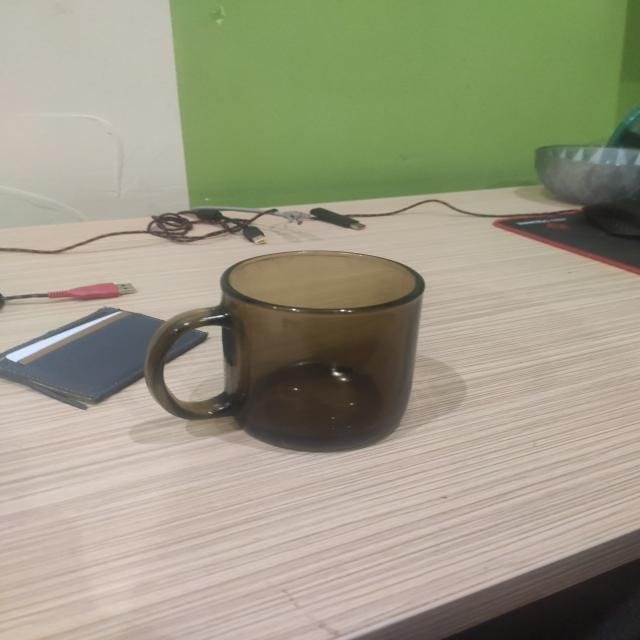cups: (144, 251, 425, 452)
